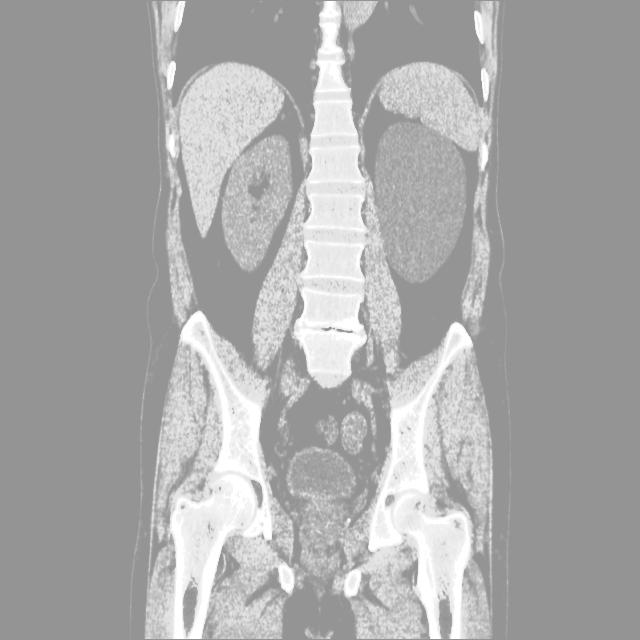cysts: (135, 2, 507, 637)
